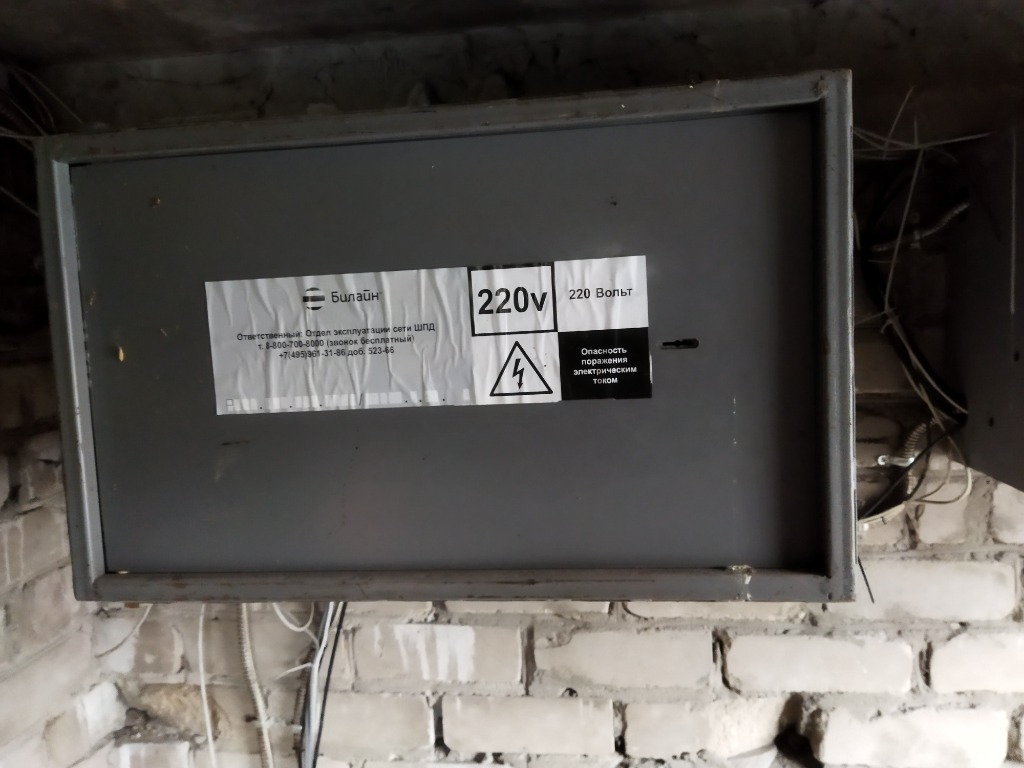e2-6u: (32, 62, 858, 611)
